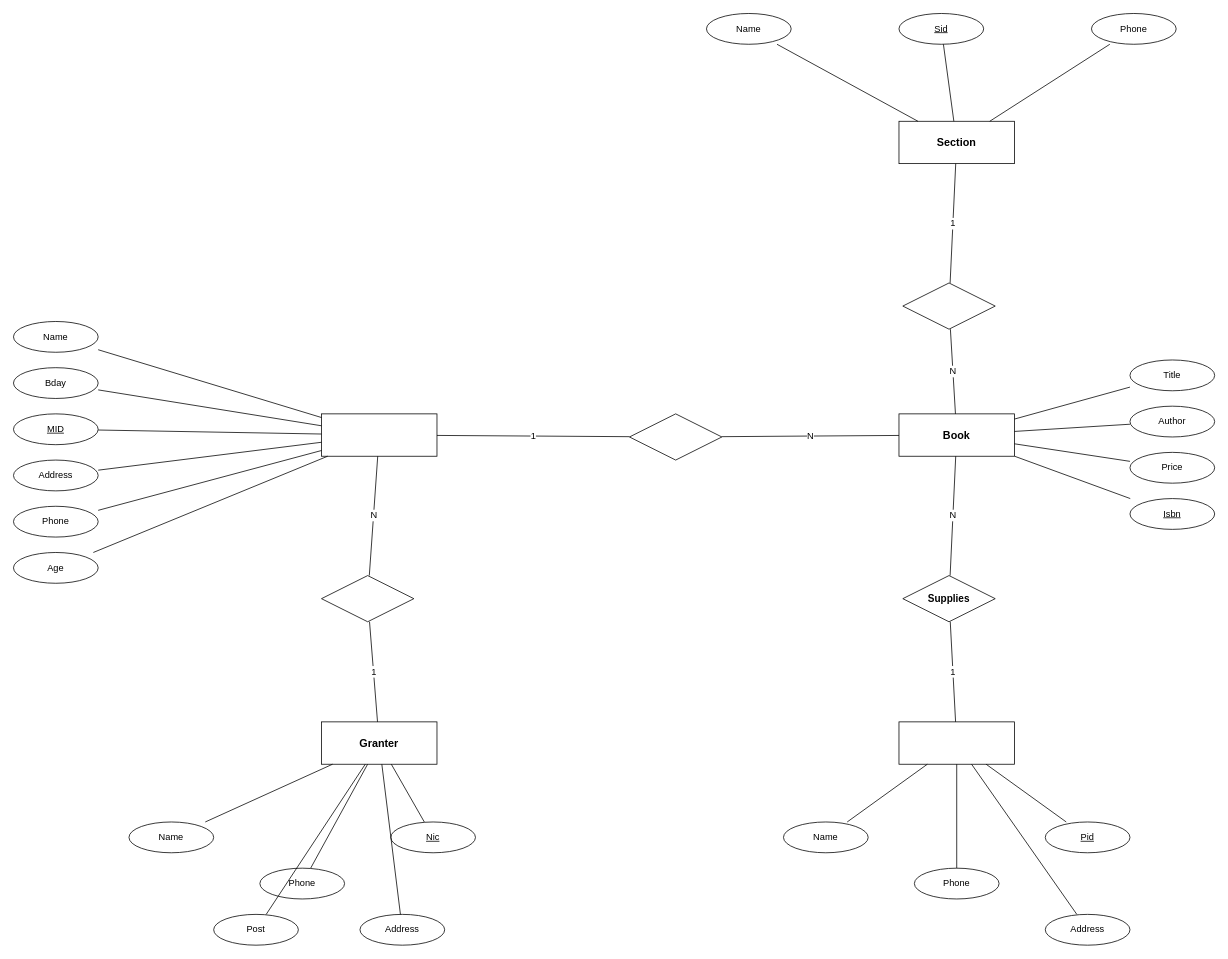
This 1228x959 diagram has some shape labels left out. The shapes that lost their labels are listed below. From the top down, each one's centre as x and y in pixels, then its label:
At (x=948, y=305): "Has".
At (x=379, y=434): "Member".
At (x=675, y=436): "Borrows".
At (x=367, y=598): "Grants".
At (x=956, y=742): "Publisher".
